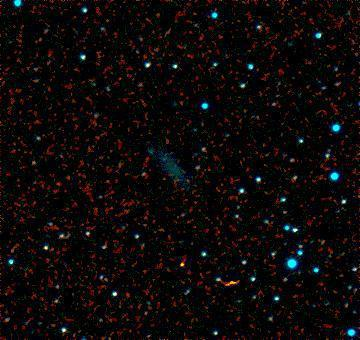star: (168, 249, 198, 279)
